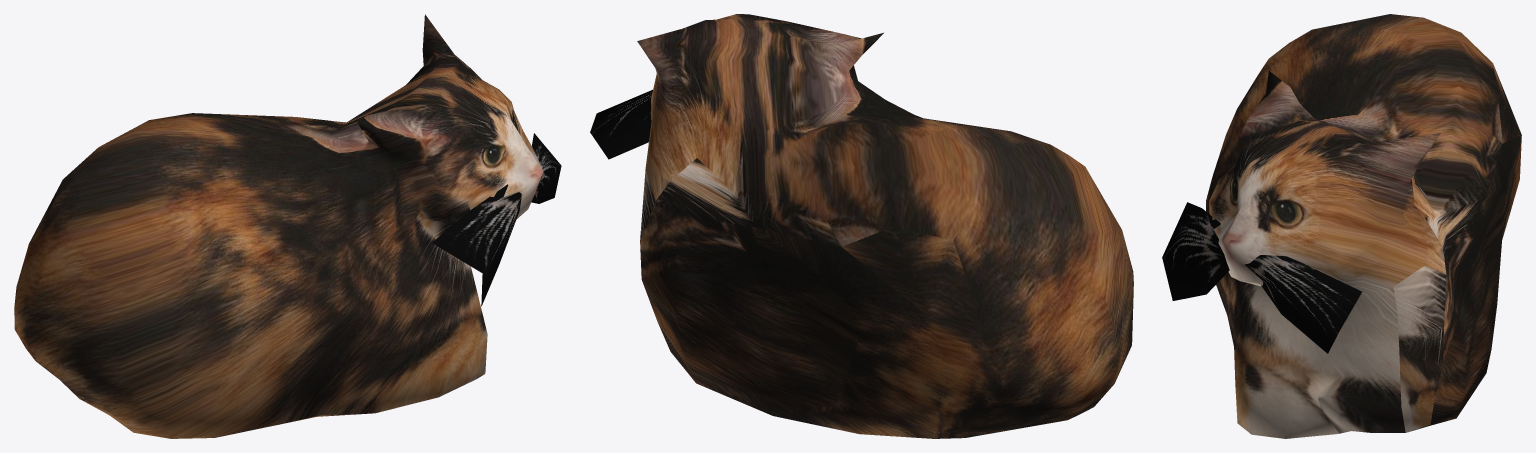
Rendered from calico.glb.
3 views of the same model, side by side, from view 1: azimuth 30°, elevation 25°; view 2: azimuth 150°, elevation 25°; view 3: azimuth 270°, elevation 25° (orthographic). The views are drawn at different scales.
Visible parts, largest first — view 1: dingus; view 2: dingus; view 3: dingus.
Boxes of the visible parts, bbox=[...] form: dingus: bbox=[14, 14, 561, 438]; dingus: bbox=[590, 14, 1133, 438]; dingus: bbox=[1162, 14, 1521, 438].
Size of the model in its own units: 33.23 by 19.21 by 18.75.
Materials: 2 (2 with a texture image).
